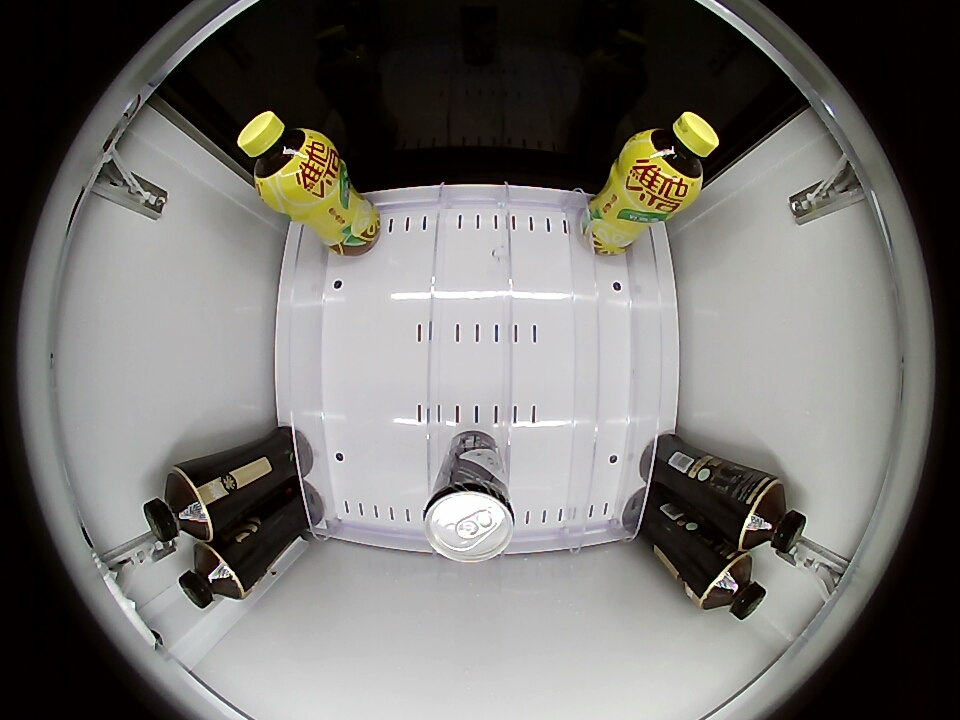qingdaowangzi-1: (424, 474, 515, 563)
rancha-1: (737, 477, 807, 556), (144, 467, 212, 547), (696, 551, 768, 621), (178, 542, 246, 609)
weitaningmeng-bottle: (238, 110, 330, 204), (627, 111, 719, 204)
